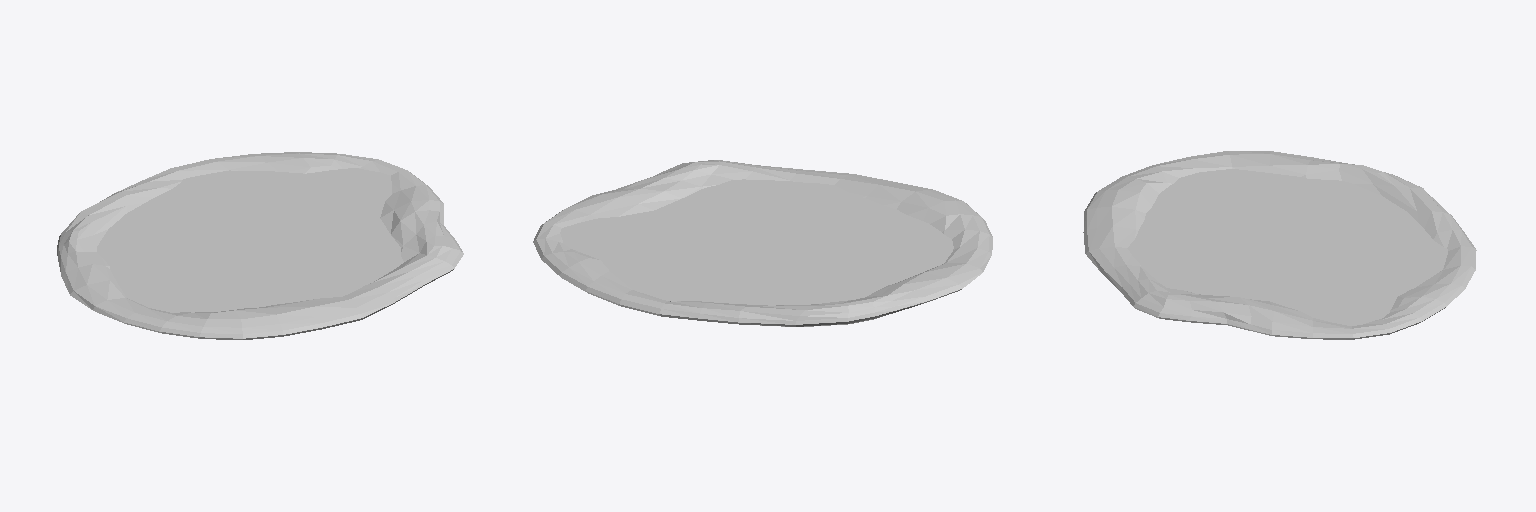
Rendered from icerink.obj.
The picture shows the model from 3 angles: view 1: azimuth 30°, elevation 25°; view 2: azimuth 150°, elevation 25°; view 3: azimuth 270°, elevation 25°; orthographic projection.
Visible parts, largest first — view 1: Cube.007, Cube.004; view 2: Cube.007, Cube.004; view 3: Cube.007, Cube.004.
Part boxes in pixels (x1,y1,x2,y2): Cube.007: (97, 168, 403, 312); Cube.004: (57, 152, 463, 339); Cube.007: (560, 179, 953, 305); Cube.004: (533, 160, 992, 326); Cube.007: (1127, 169, 1447, 325); Cube.004: (1083, 151, 1476, 339).
Bounding box in the file's own units: 16.15 × 1.7 × 14.41.